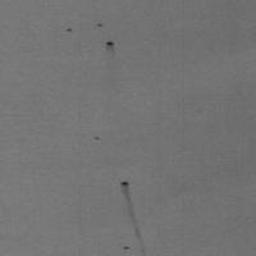Inclusion: (119, 179, 145, 246), (105, 40, 116, 49), (65, 27, 73, 35), (96, 22, 105, 29), (92, 136, 102, 142), (123, 244, 131, 251)
